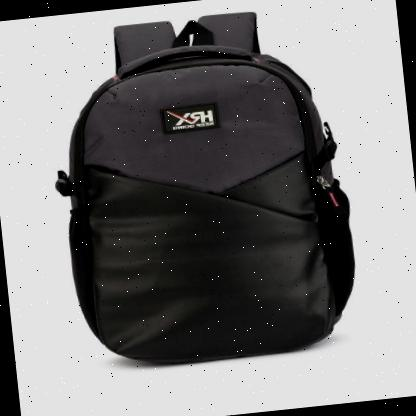bag: (37, 0, 366, 381)
